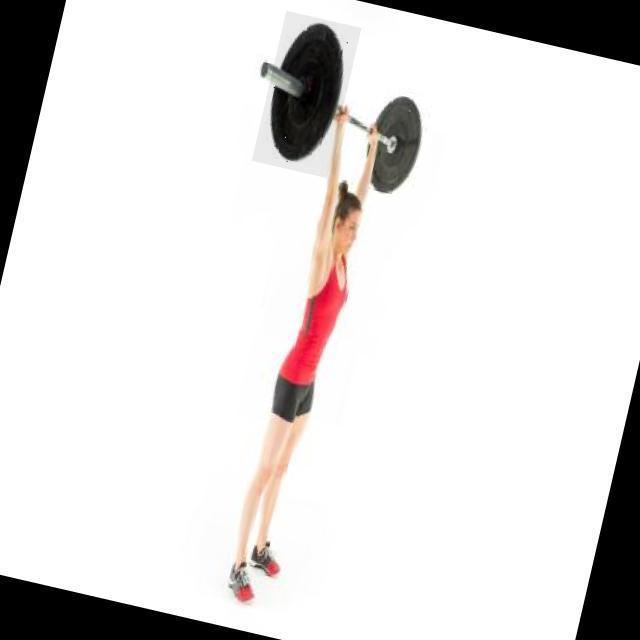barbell: (252, 12, 362, 179)
